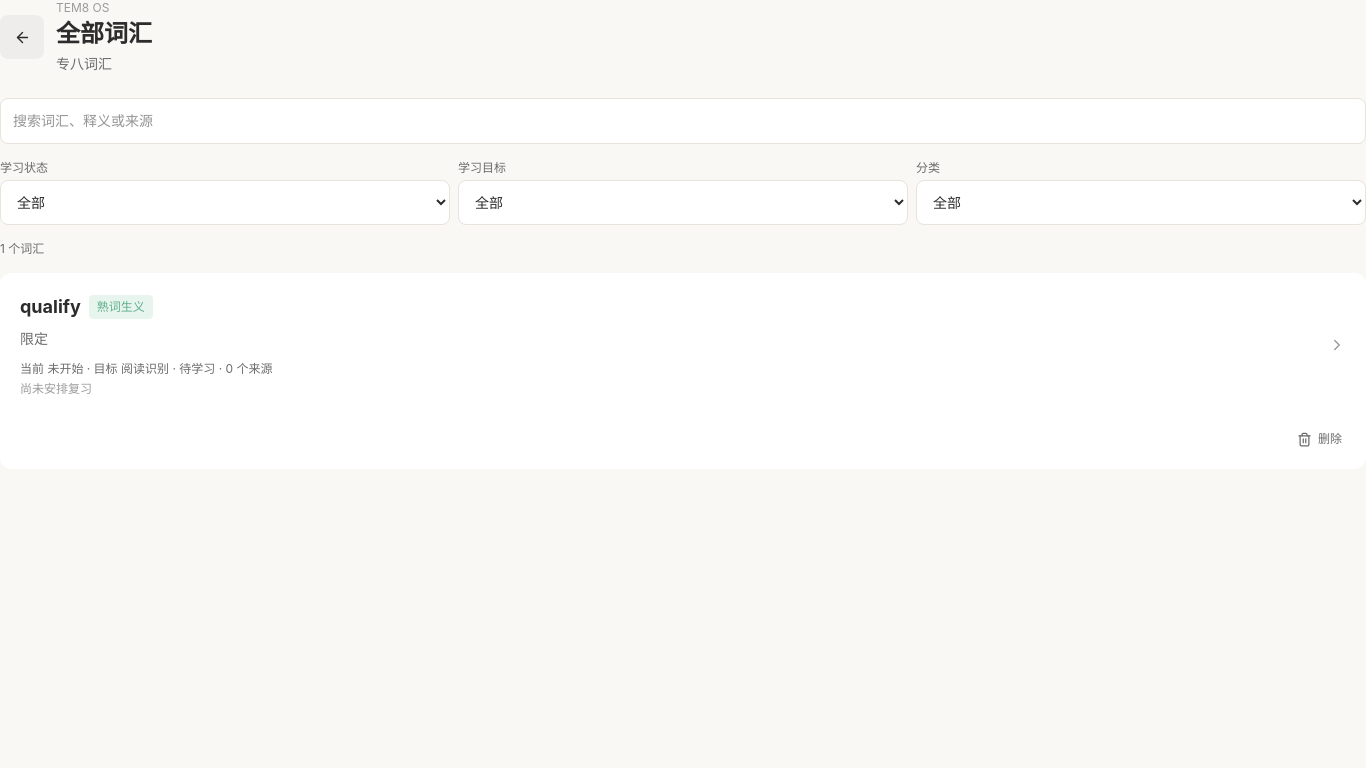
Test: TEM8 full vocabulary page › requires confirmation for deleting a word and surfaces failures
Click the button with aria-label "删除qualify".
click(1320, 439)  # box [1285,417,1354,461]
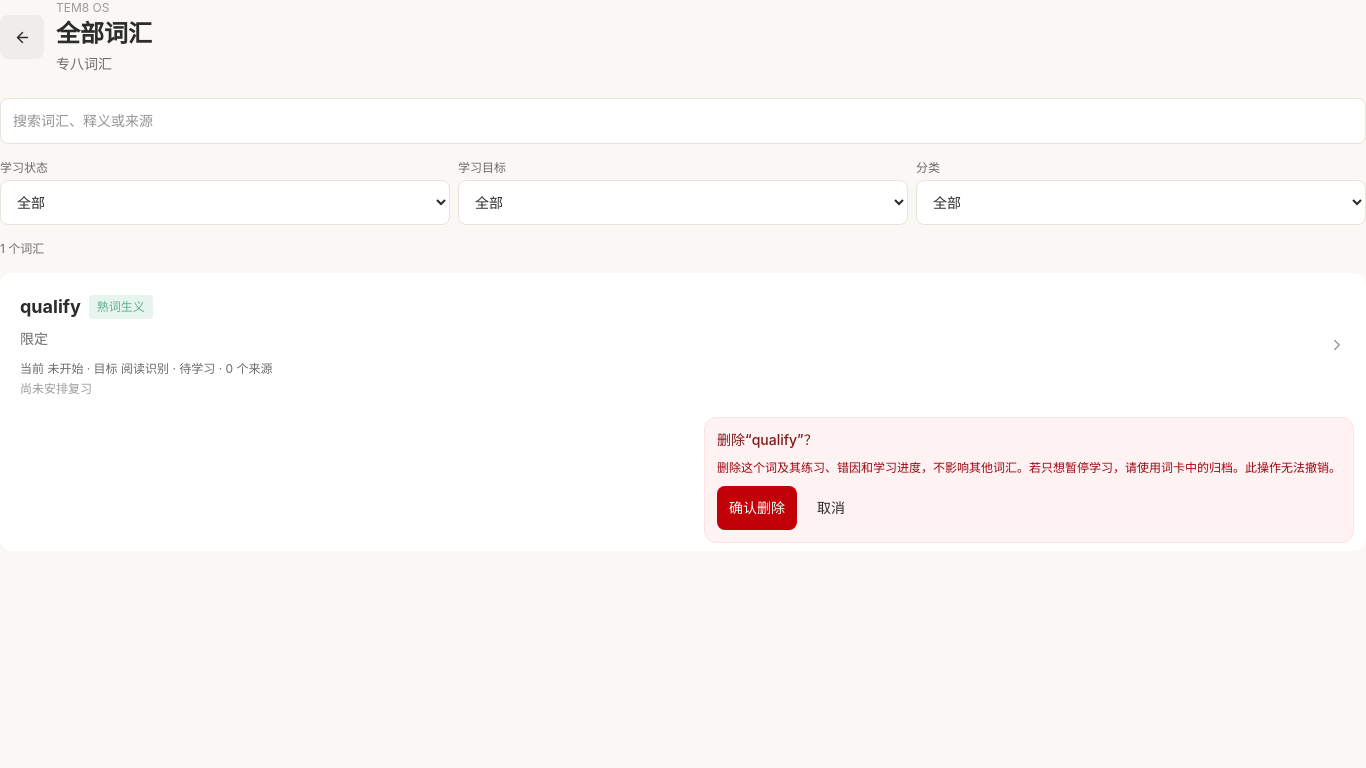
Click the button "取消".
click(831, 508)  # box [805,486,857,530]
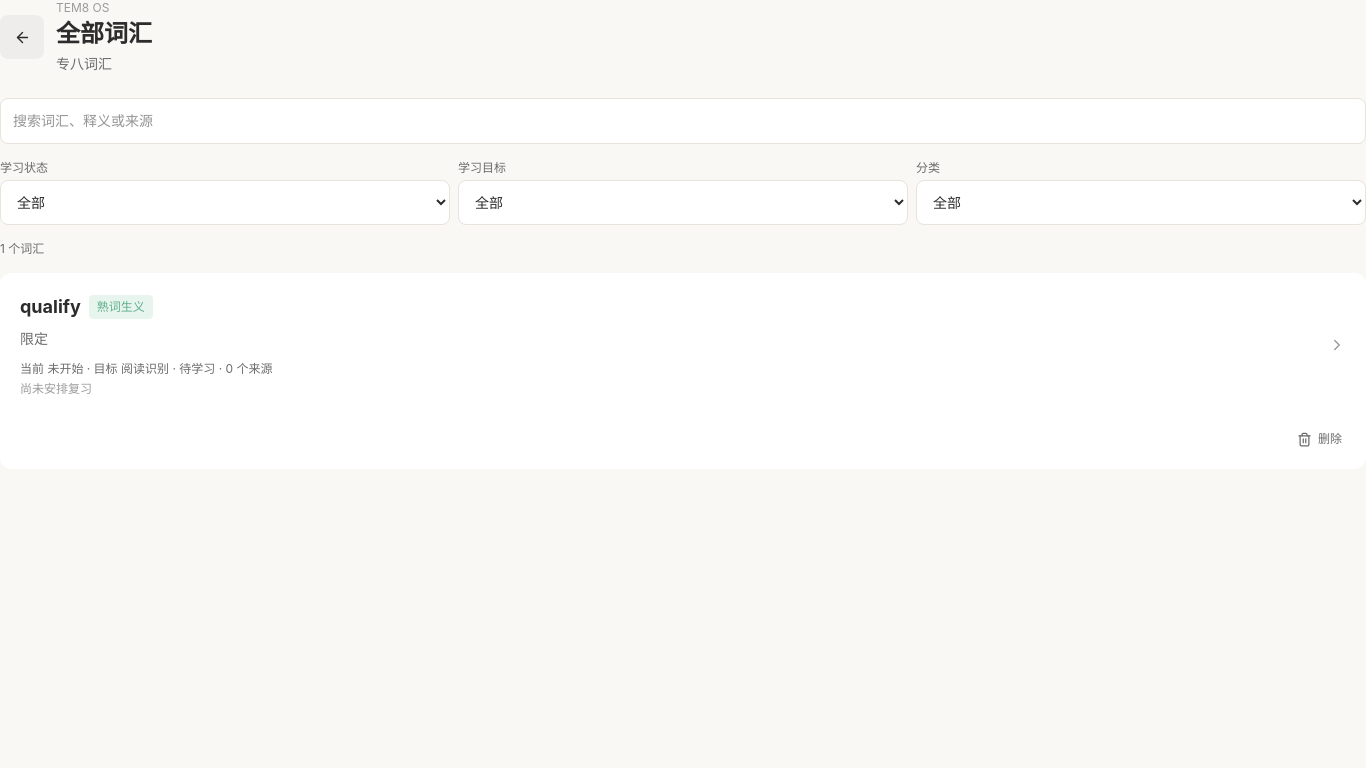
Click the button with aria-label "删除qualify".
click(1320, 439)  # box [1285,417,1354,461]
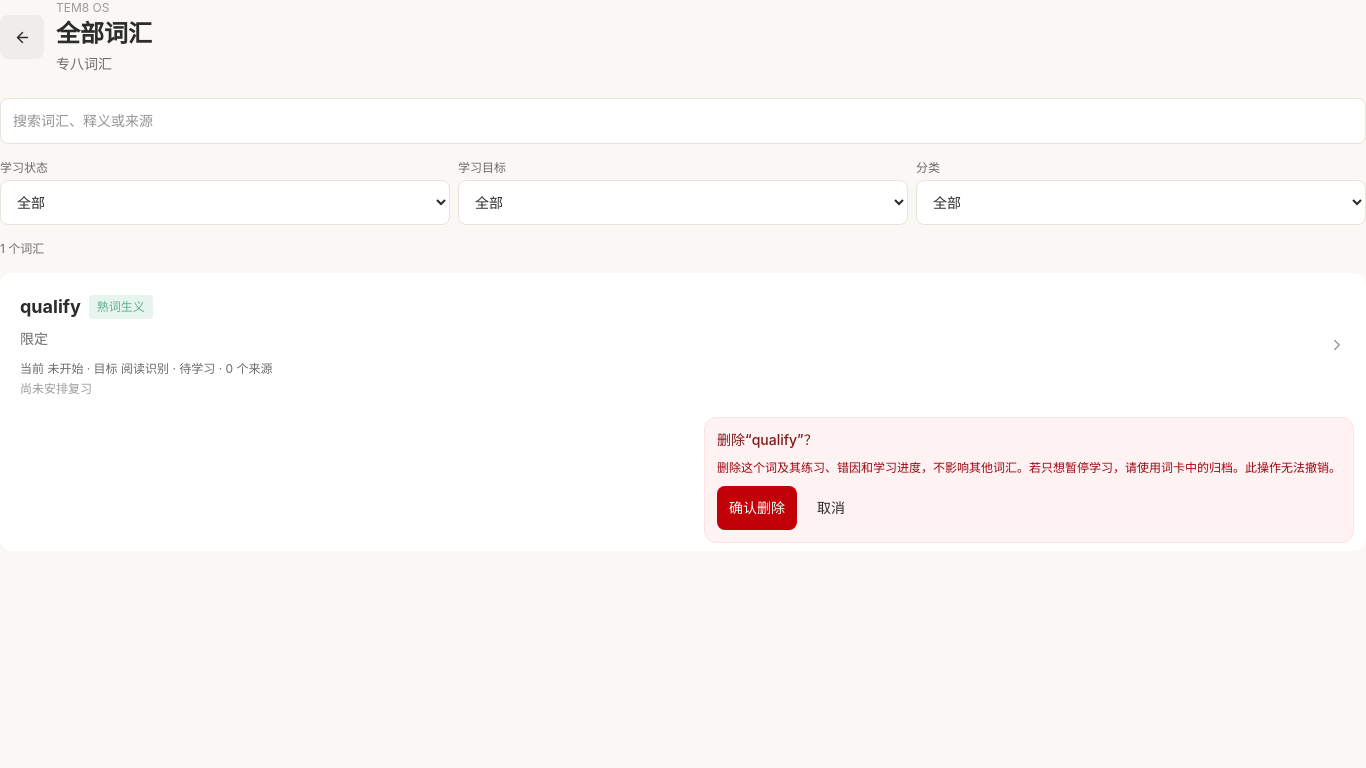
Click the button "确认删除".
click(757, 508)  # box [717,486,797,530]
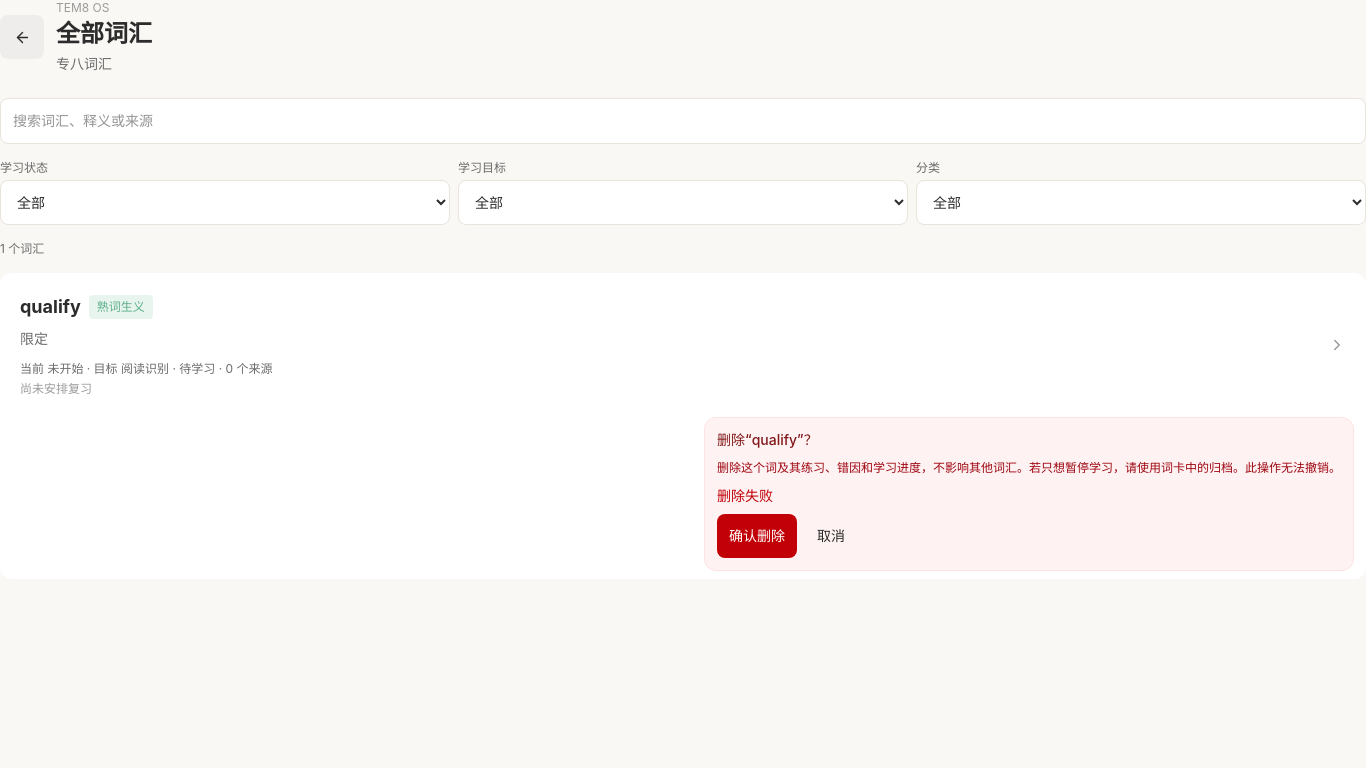
Now the message reads "删除失败", box [717,486,773,504]
